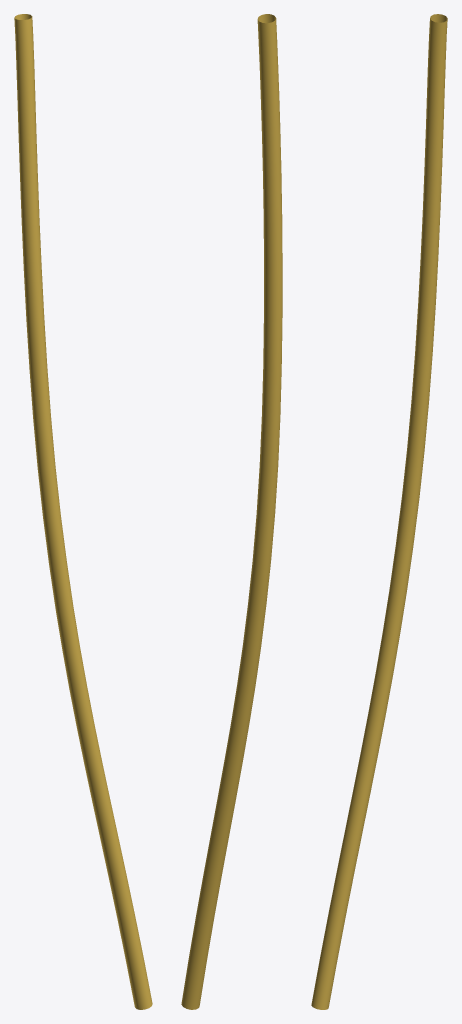
File: Common_palmar_digital_branches_ulnar_nerve_right.glb
3 renders of one model, left to right at view 1: azimuth 90°, elevation 25°; view 2: azimuth 210°, elevation 25°; view 3: azimuth 270°, elevation 25°, orthographic. The views are drawn at different scales.
Parts seen in each view (by area): view 1: Common_palmar_digital_branches_of_ulnar_nerve.r_BezierCurve.; view 2: Common_palmar_digital_branches_of_ulnar_nerve.r_BezierCurve.; view 3: Common_palmar_digital_branches_of_ulnar_nerve.r_BezierCurve..
Part boxes in pixels (<box>): Common_palmar_digital_branches_of_ulnar_nerve.r_BezierCurve.: <box>14,14,152,1009</box>; Common_palmar_digital_branches_of_ulnar_nerve.r_BezierCurve.: <box>181,14,282,1009</box>; Common_palmar_digital_branches_of_ulnar_nerve.r_BezierCurve.: <box>311,14,447,1009</box>.
Size of the model in its own units: 0.00274 by 0.0609 by 0.00765.
